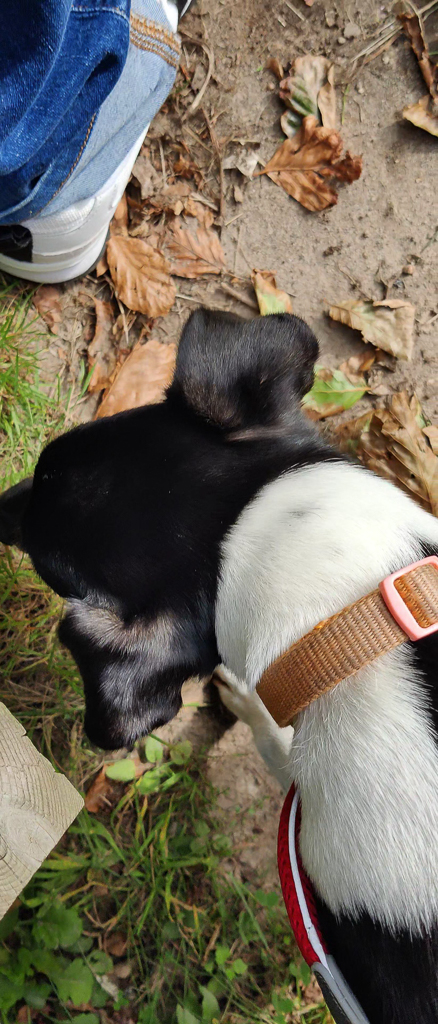Dog: (0, 288, 438, 1024)
Humanoid: (0, 0, 199, 302)
